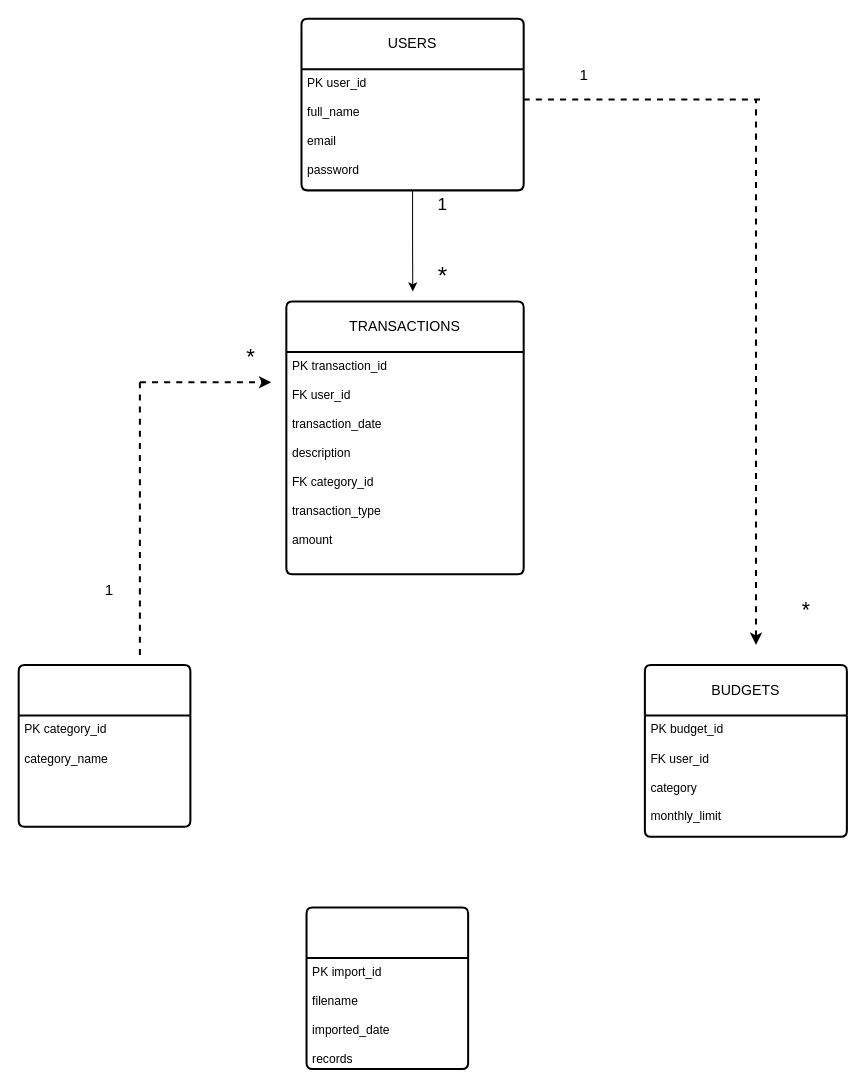
Image size: 865x1087. Some labels were removed from this diagram. Here are the shapes that lost their labels. From the top down, the box of each, then its label:
(17, 664, 191, 827): CATEGORIES
(305, 906, 469, 1070): IMPORT_LOGS
